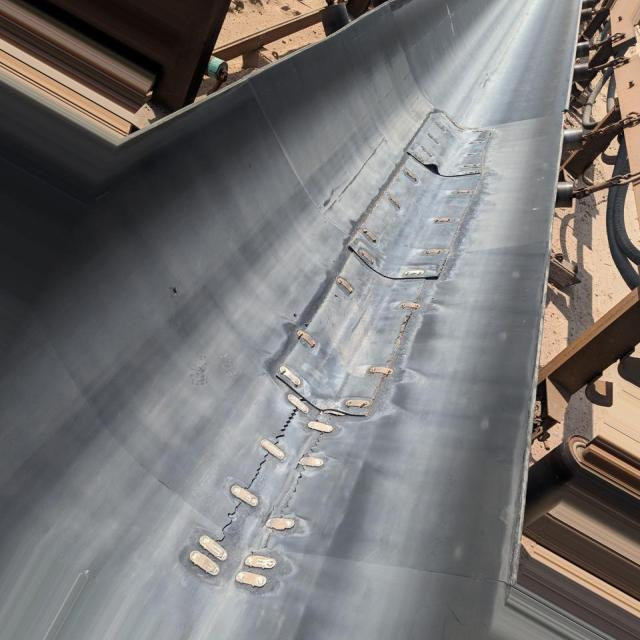patch work: (187, 107, 493, 593)
